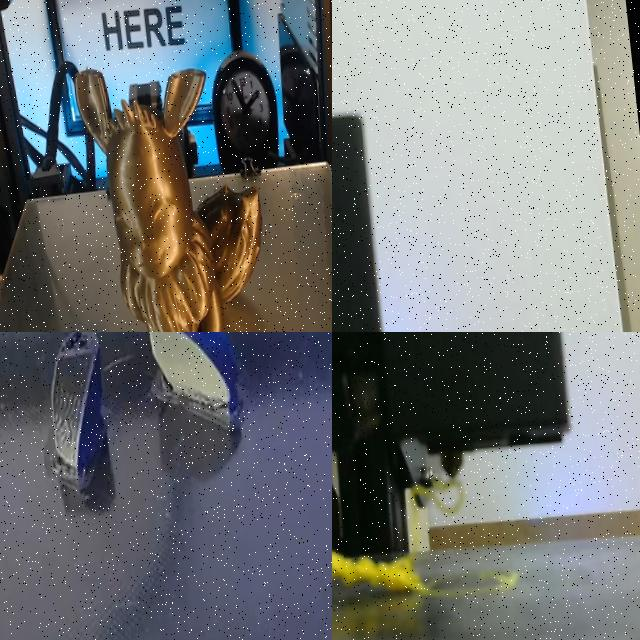spaghetti: (332, 550, 450, 595), (406, 478, 464, 513)
